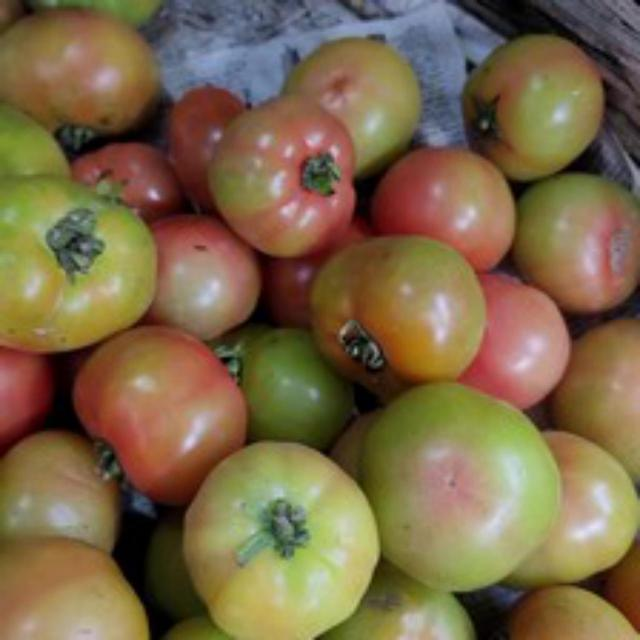tomato: (66, 322, 256, 506)
